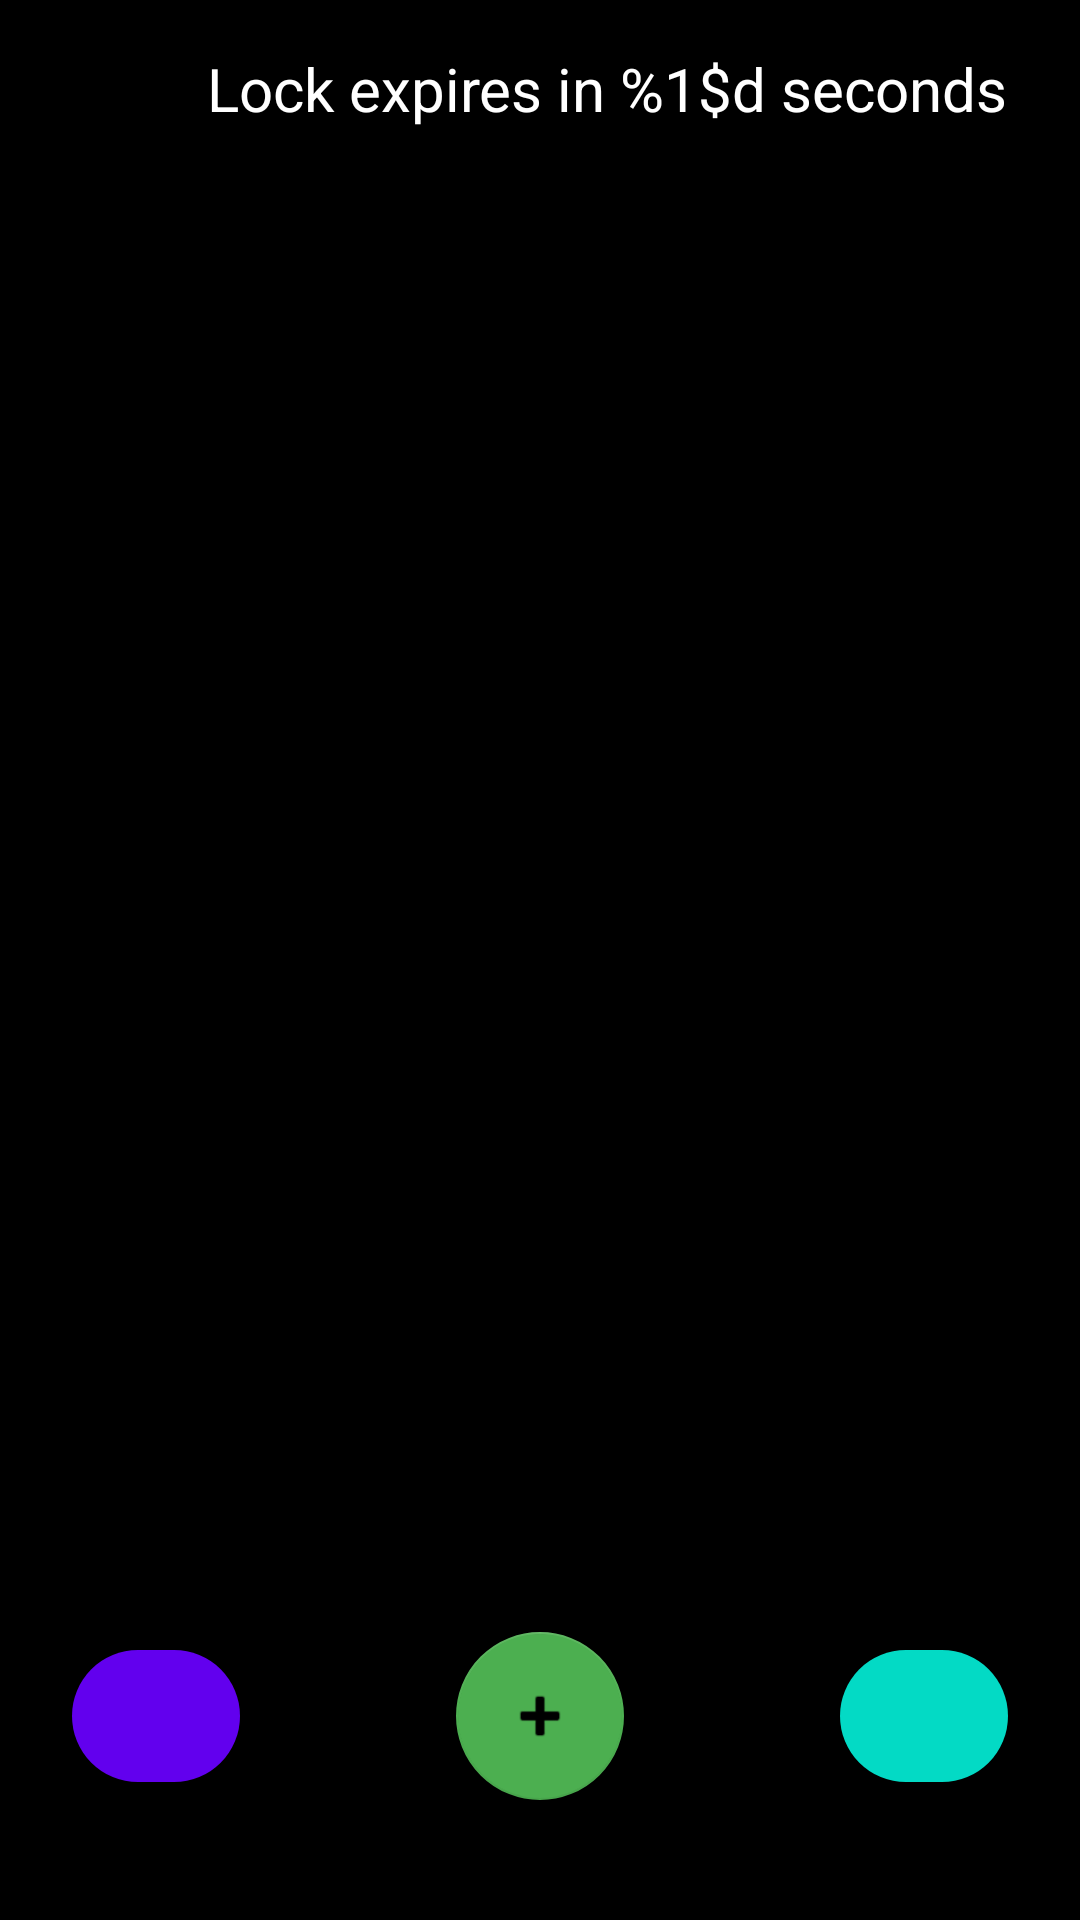

Where to tap for icons on this 1080 x 1920 app screen, as (x,y):
Add reminder: (540,1716)
